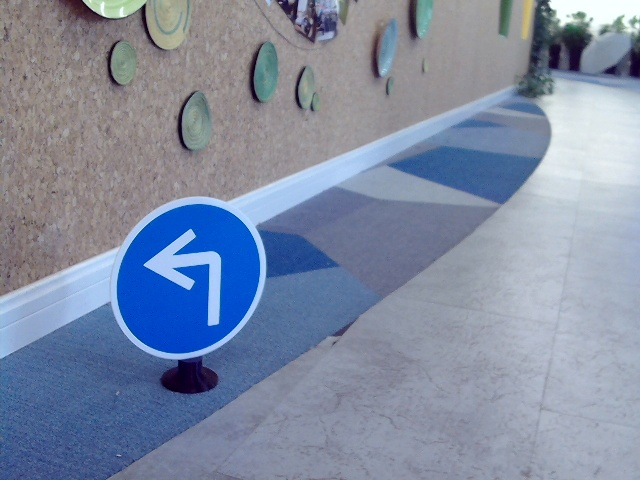turn_left: (144, 228, 224, 326)
